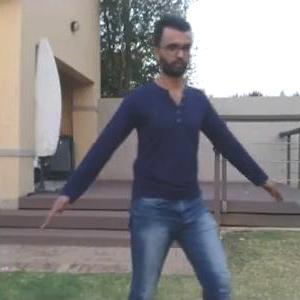land: (33, 30, 263, 299)
